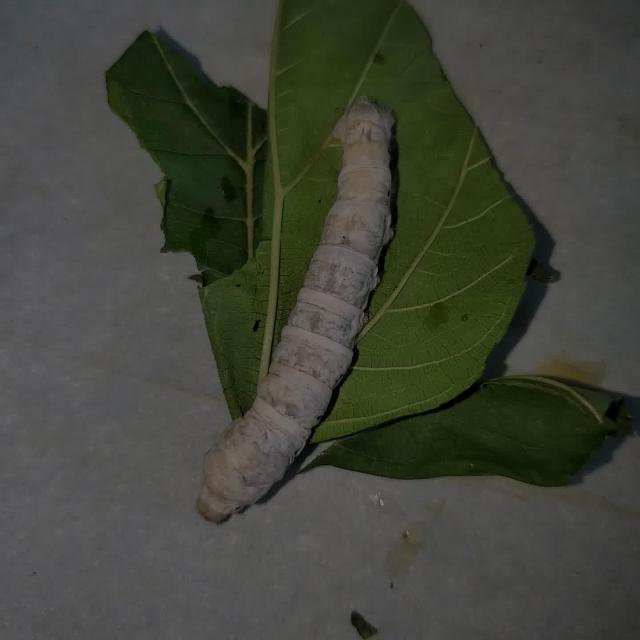Grasserie: (176, 88, 450, 523)
